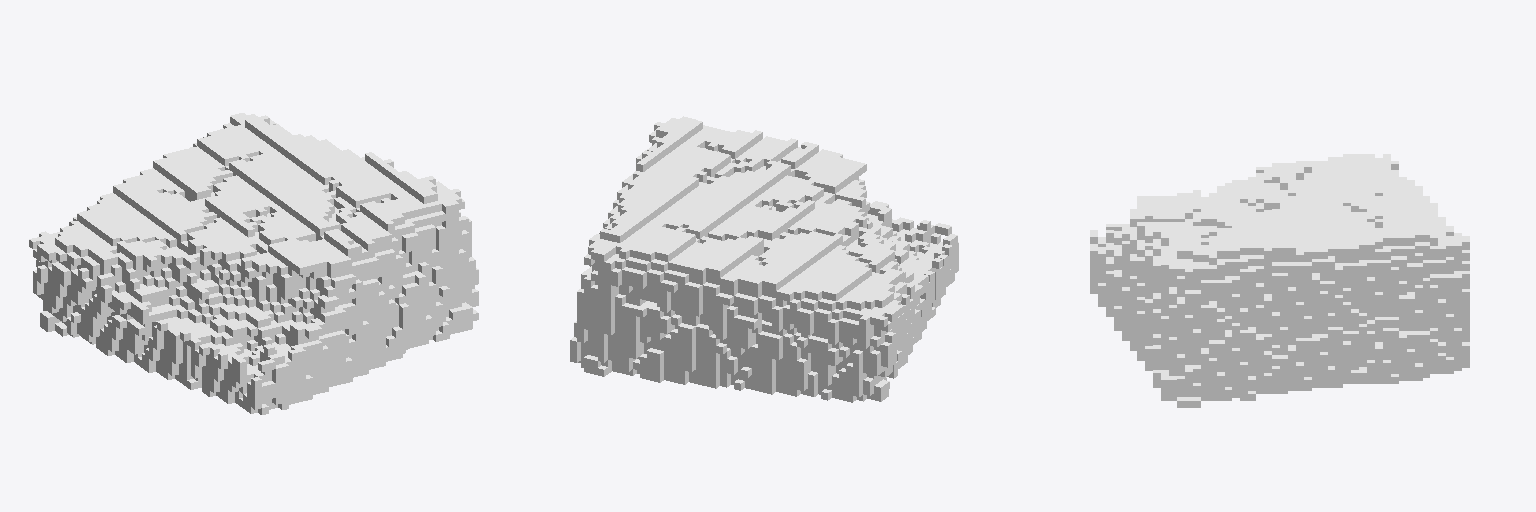
Rendered from Rocas-4.obj.
3 renders of one model, left to right at view 1: azimuth 30°, elevation 25°; view 2: azimuth 150°, elevation 25°; view 3: azimuth 270°, elevation 25°, orthographic.
Parts seen in each view (by area): view 1: object 1; view 2: object 1; view 3: object 1.
Part boxes in pixels (left/top/right/bottom): object 1: left=29, top=113, right=478, bottom=414; object 1: left=570, top=116, right=958, bottom=402; object 1: left=1090, top=154, right=1469, bottom=407.
Bounding box in the file's own units: 5 × 1.9 × 4.8.